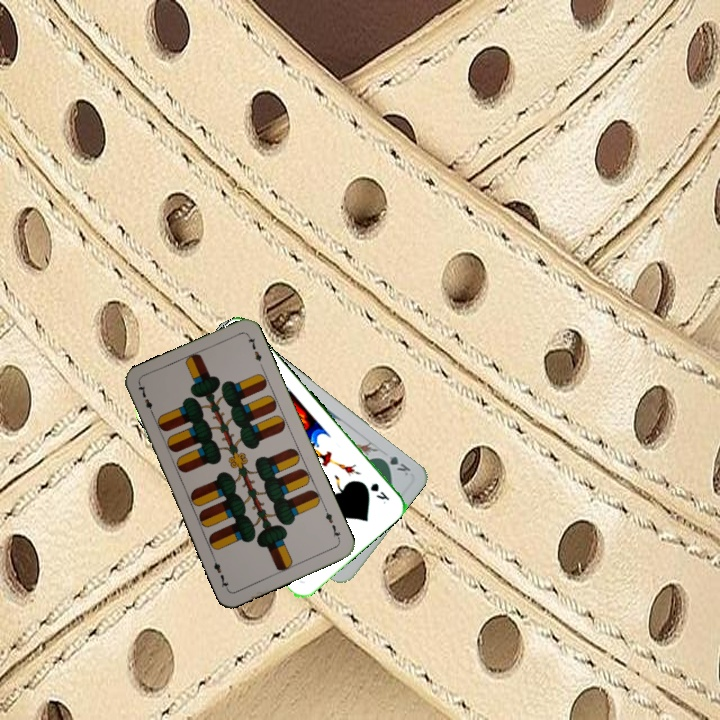E7: (320, 504, 343, 543), (134, 381, 157, 419)
GK: (376, 452, 413, 478), (366, 479, 392, 506)
